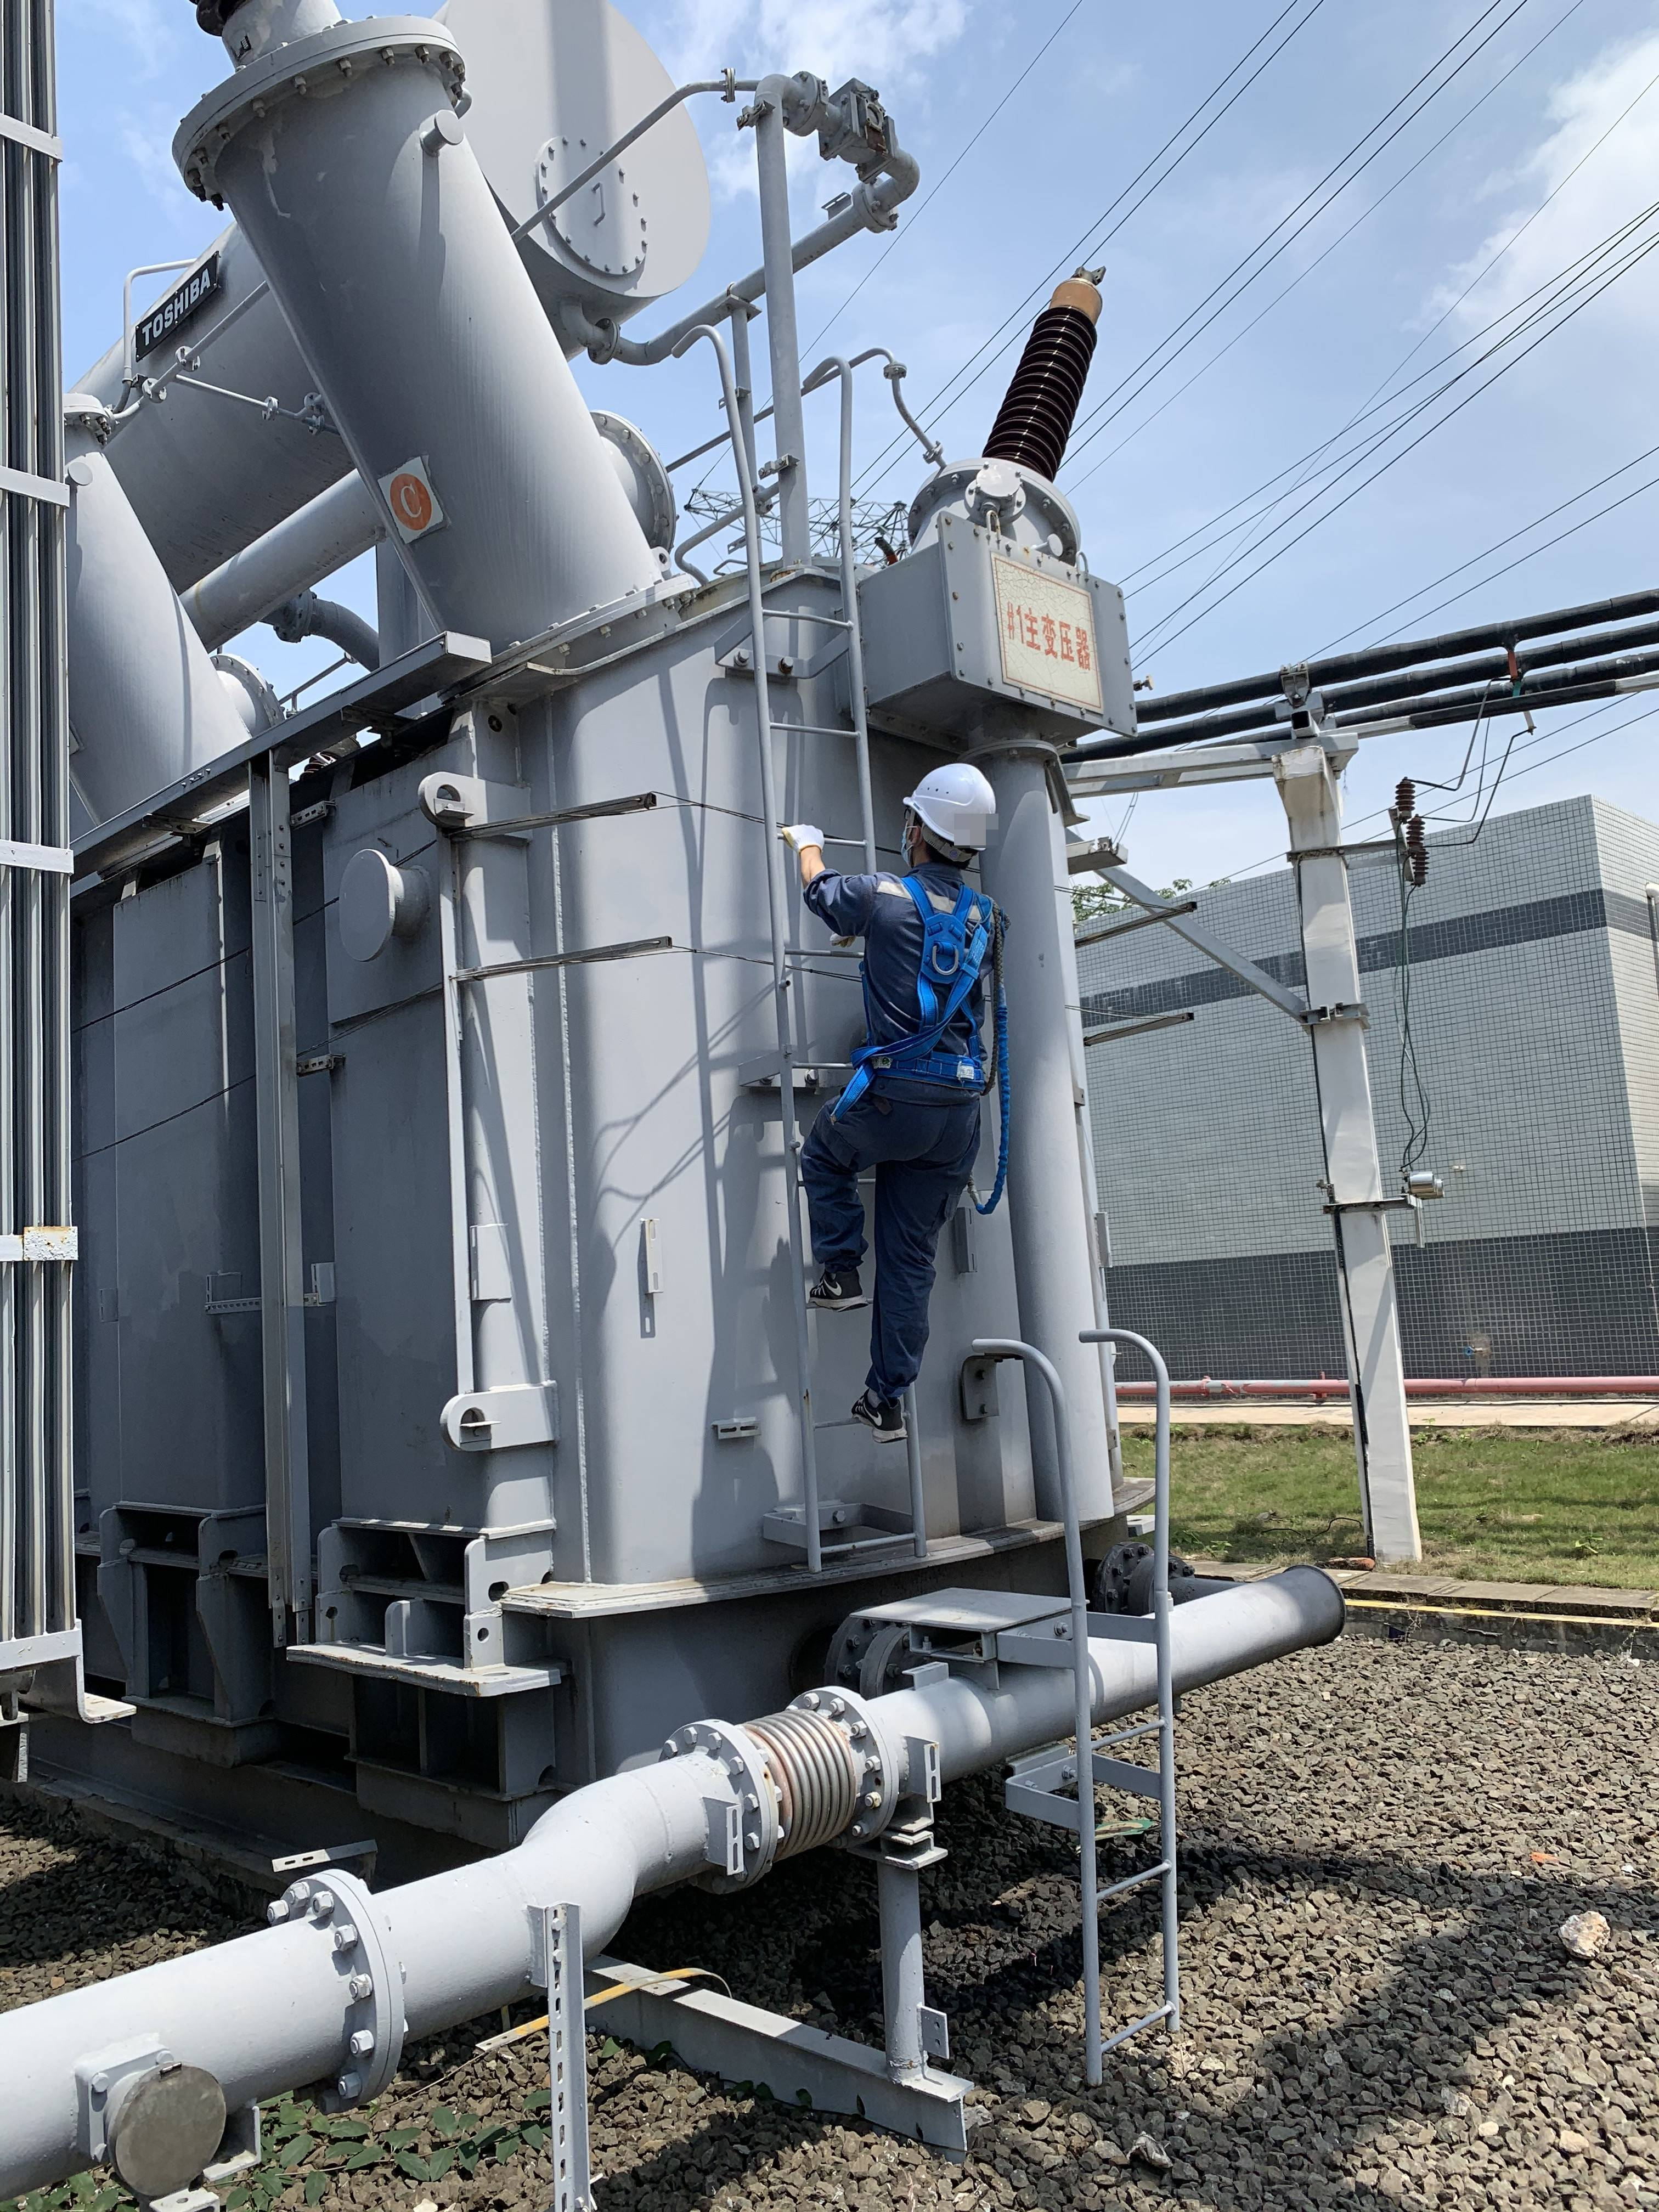downsuit: (795, 1109, 997, 1397)
upsuit: (817, 862, 1012, 1050)
wrongtop: (795, 838, 843, 907)
